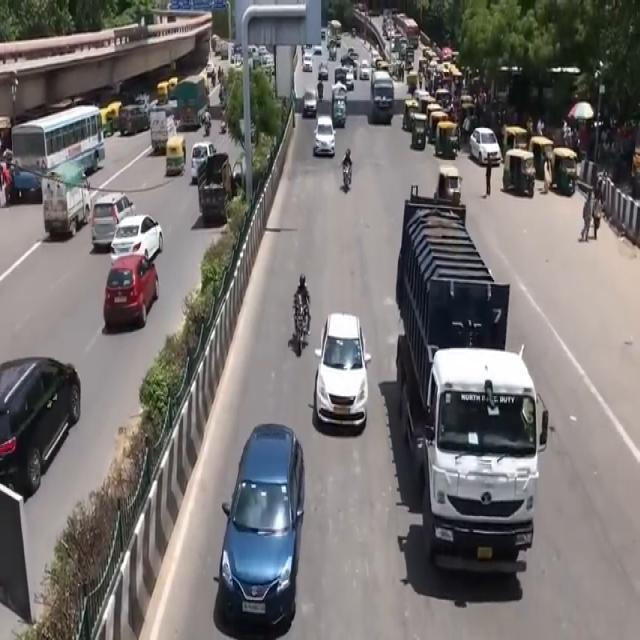BUS: (14, 106, 107, 178)
TRUCK: (394, 197, 535, 579)
